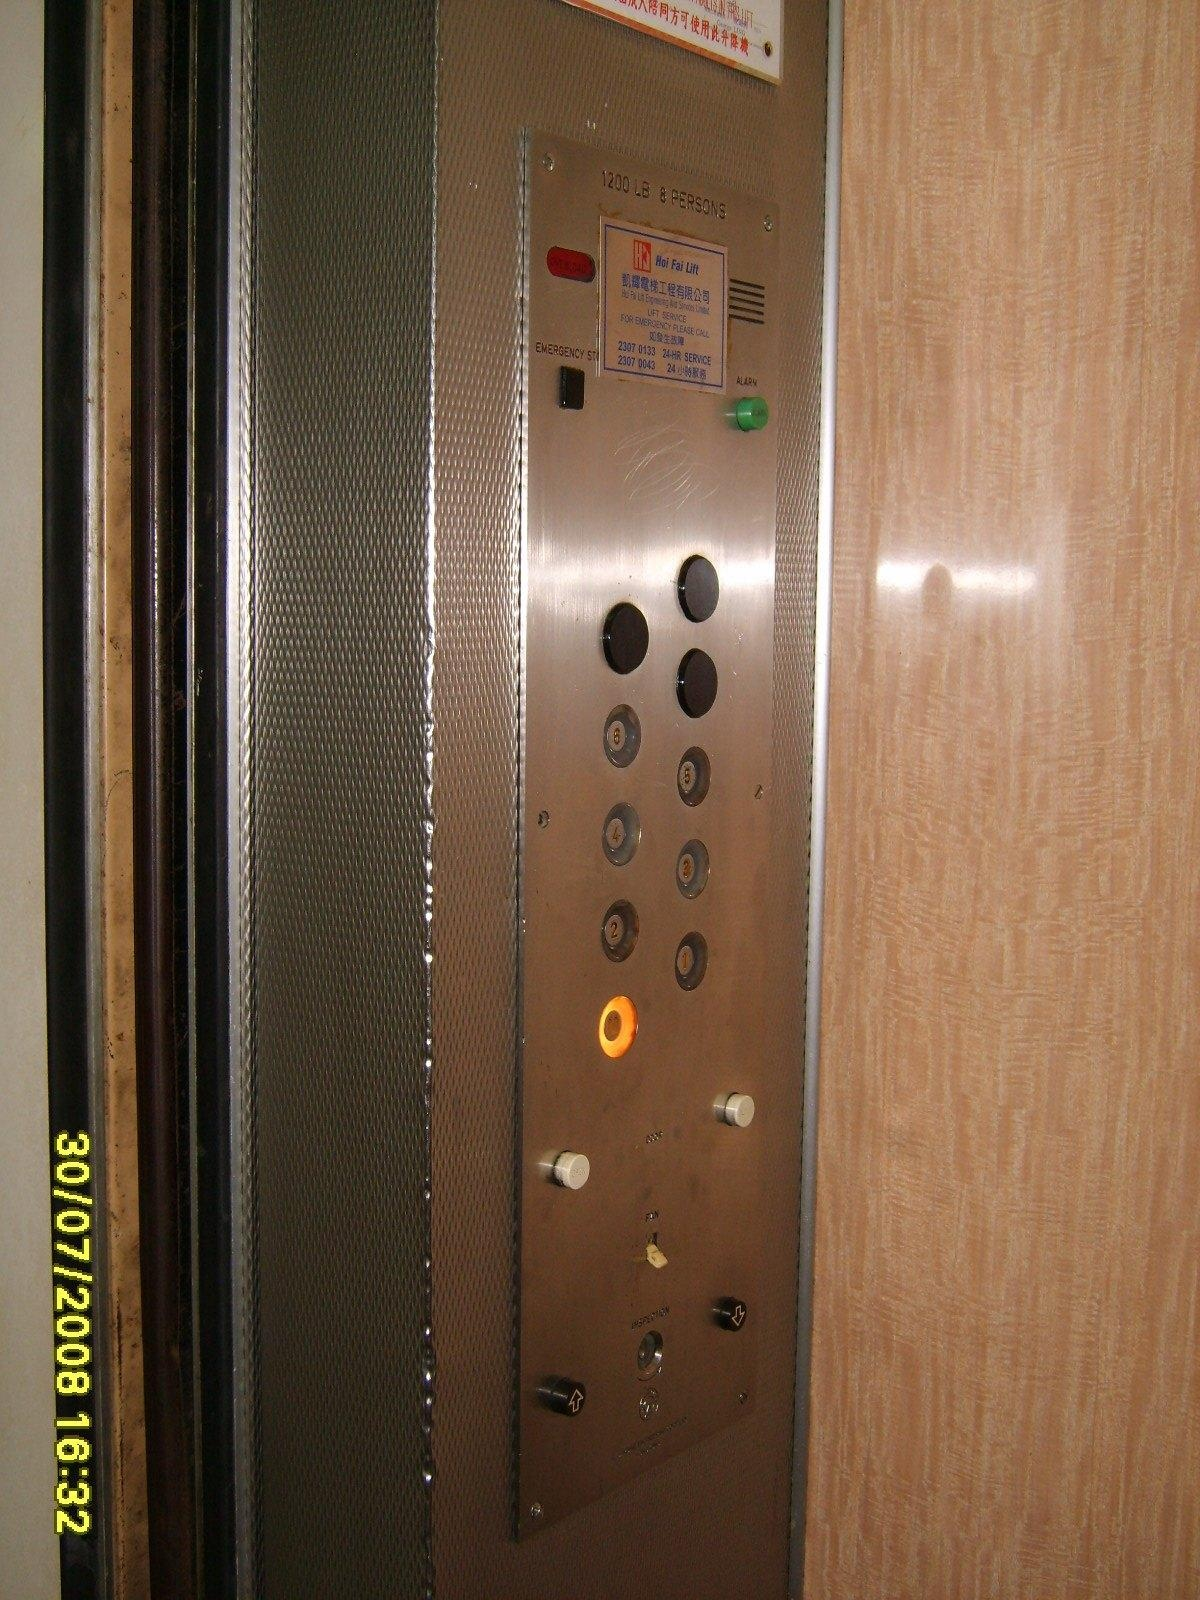1: (672, 926, 713, 995)
2: (600, 897, 642, 966)
3: (672, 831, 713, 901)
4: (603, 797, 643, 867)
5: (673, 741, 713, 810)
6: (597, 700, 645, 771)
G: (599, 993, 640, 1062)
down: (710, 1291, 751, 1334)
empty: (600, 596, 652, 678), (671, 645, 721, 723), (672, 551, 724, 624), (551, 1141, 596, 1198), (715, 1082, 760, 1139), (555, 364, 589, 416)
switch: (640, 1218, 669, 1279)
text: (734, 396, 773, 437)
up: (545, 1373, 596, 1422)
